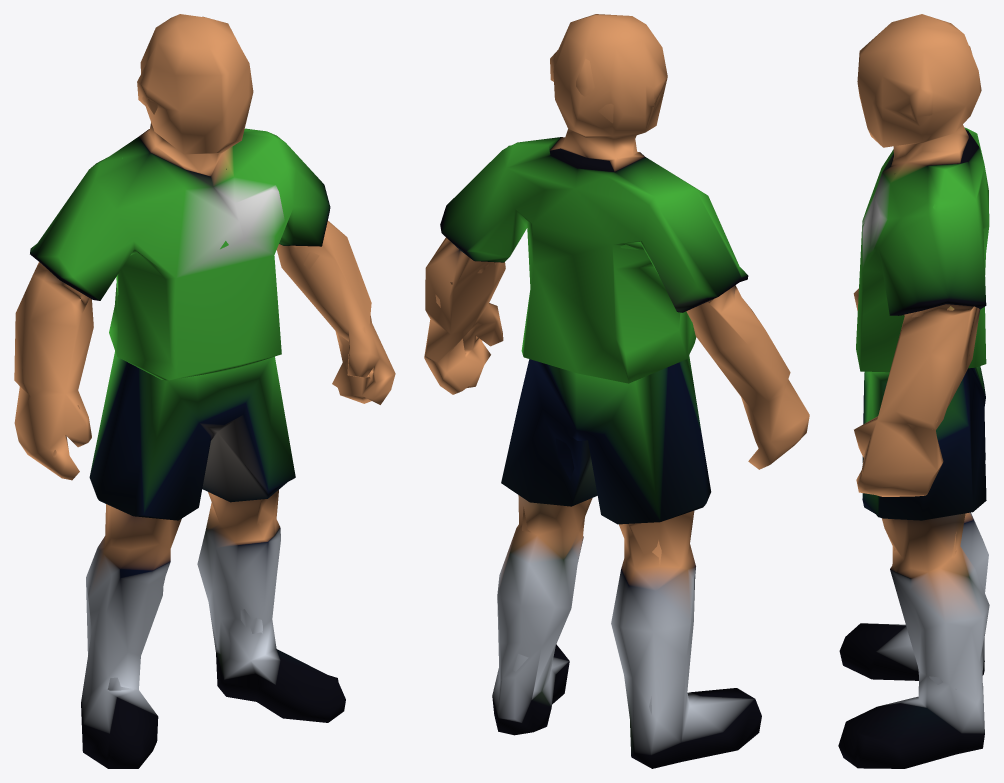
The model's file is gen3d-soccer-goalkeeper-lod1.glb.
The picture shows the model from 3 angles, left to right: view 1: azimuth 30°, elevation 25°; view 2: azimuth 150°, elevation 25°; view 3: azimuth 270°, elevation 25°; orthographic projection. The views are drawn at different scales.
Parts seen in each view (by area): view 1: part_0; view 2: part_0; view 3: part_0.
Part boxes in pixels (box(x1,y1,x2,y2)): part_0: box(14, 14, 395, 768); part_0: box(424, 14, 809, 768); part_0: box(838, 14, 989, 768).
Size of the model in its own units: 0.5247 by 0.9996 by 0.1985.
